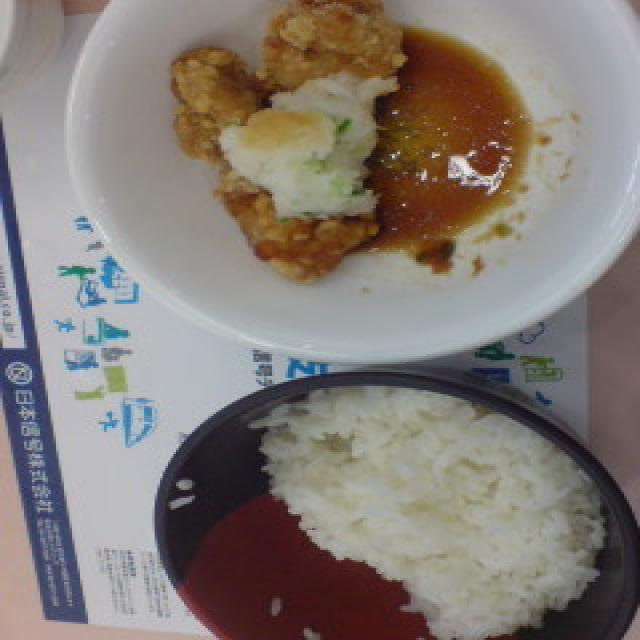Rice: (280, 376, 610, 626)
